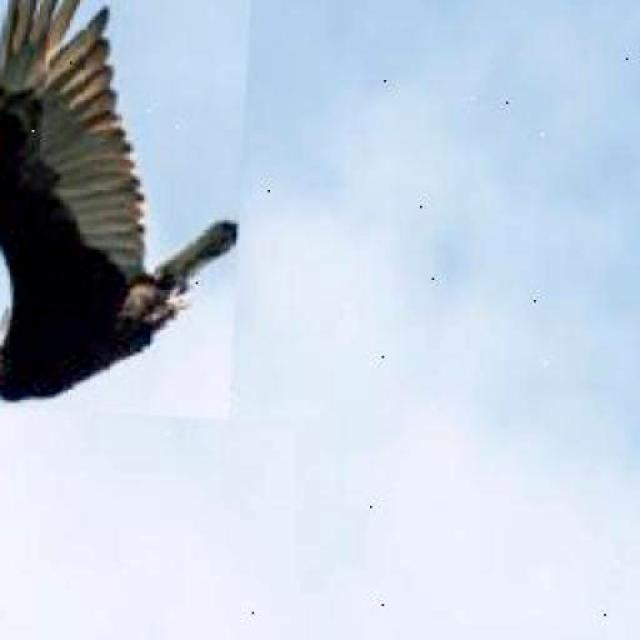airplane: (0, 0, 255, 419)
